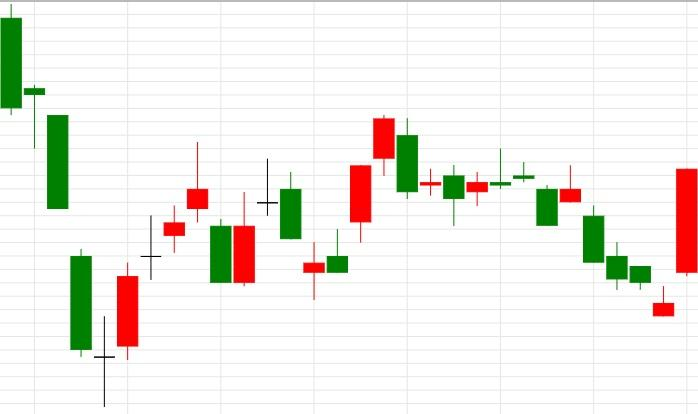morning_star_rise: (1, 4, 139, 406)
shooting_star_fall: (116, 141, 208, 360)
